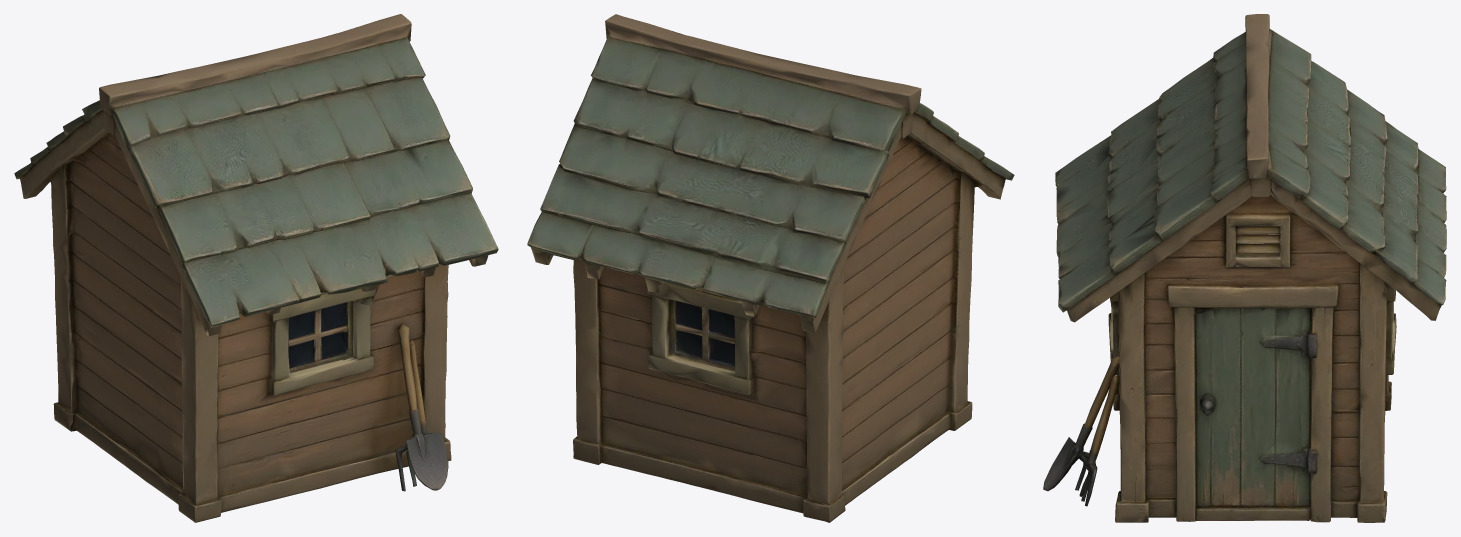
File: cobertizo.glb
3 views of the same model, side by side, from view 1: azimuth 30°, elevation 25°; view 2: azimuth 150°, elevation 25°; view 3: azimuth 270°, elevation 25° (orthographic). The views are drawn at different scales.
Parts seen in each view (by area): view 1: tripo_node_60ed2088-6035-406a-9d96-a39c5f47dbc5; view 2: tripo_node_60ed2088-6035-406a-9d96-a39c5f47dbc5; view 3: tripo_node_60ed2088-6035-406a-9d96-a39c5f47dbc5.
Boxes of the visible parts, box(x1,y1,x2,y2) form: tripo_node_60ed2088-6035-406a-9d96-a39c5f47dbc5: box(14, 14, 498, 522); tripo_node_60ed2088-6035-406a-9d96-a39c5f47dbc5: box(527, 14, 1014, 522); tripo_node_60ed2088-6035-406a-9d96-a39c5f47dbc5: box(1043, 14, 1446, 522).
Size of the model in its own units: 0.824 by 1 by 0.968.
1 material, 1 textured.
